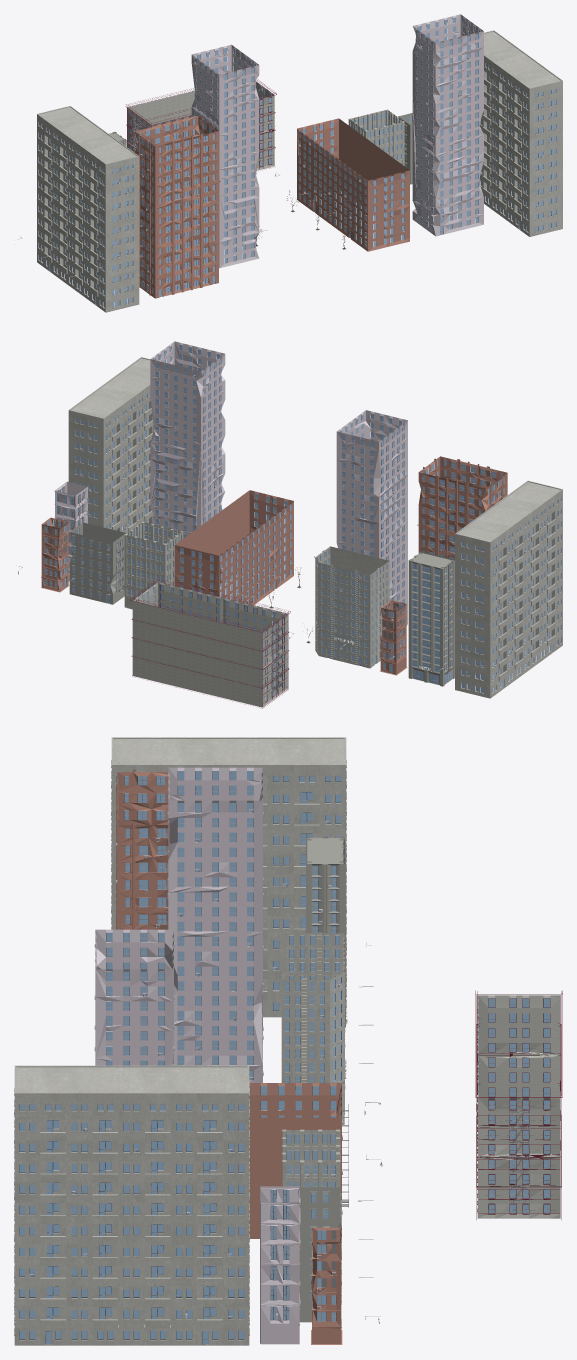
File: block-scene-0.glb
The picture shows the model from 3 angles, top to bottom: view 1: azimuth 30°, elevation 25°; view 2: azimuth 150°, elevation 25°; view 3: azimuth 270°, elevation 25°; orthographic projection. The views are drawn at different scales.
Parts seen in each view (by area): view 1: Object_15, Object_8; view 2: Object_15, Object_8; view 3: Object_8, Object_15.
Part boxes in pixels (box(x1,y1,x2,y2)): Object_15: box(15, 14, 556, 307); Object_8: box(37, 30, 562, 312); Object_15: box(18, 341, 560, 708); Object_8: box(68, 357, 562, 707); Object_8: box(14, 737, 560, 1345); Object_15: box(14, 767, 562, 1344).
Size of the model in its own units: 70 by 28.07 by 42.2.
2 materials, 2 textured.
